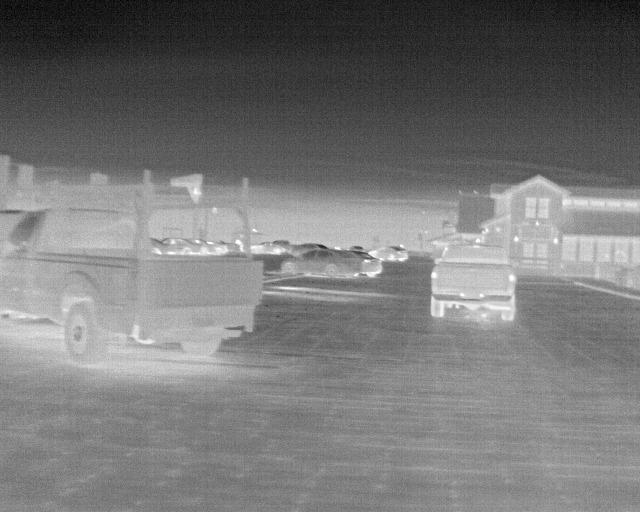car: (0, 195, 265, 366), (429, 240, 518, 322), (278, 246, 361, 279), (341, 248, 379, 279), (369, 242, 408, 261), (160, 237, 203, 254), (213, 241, 240, 257), (148, 235, 167, 257)
